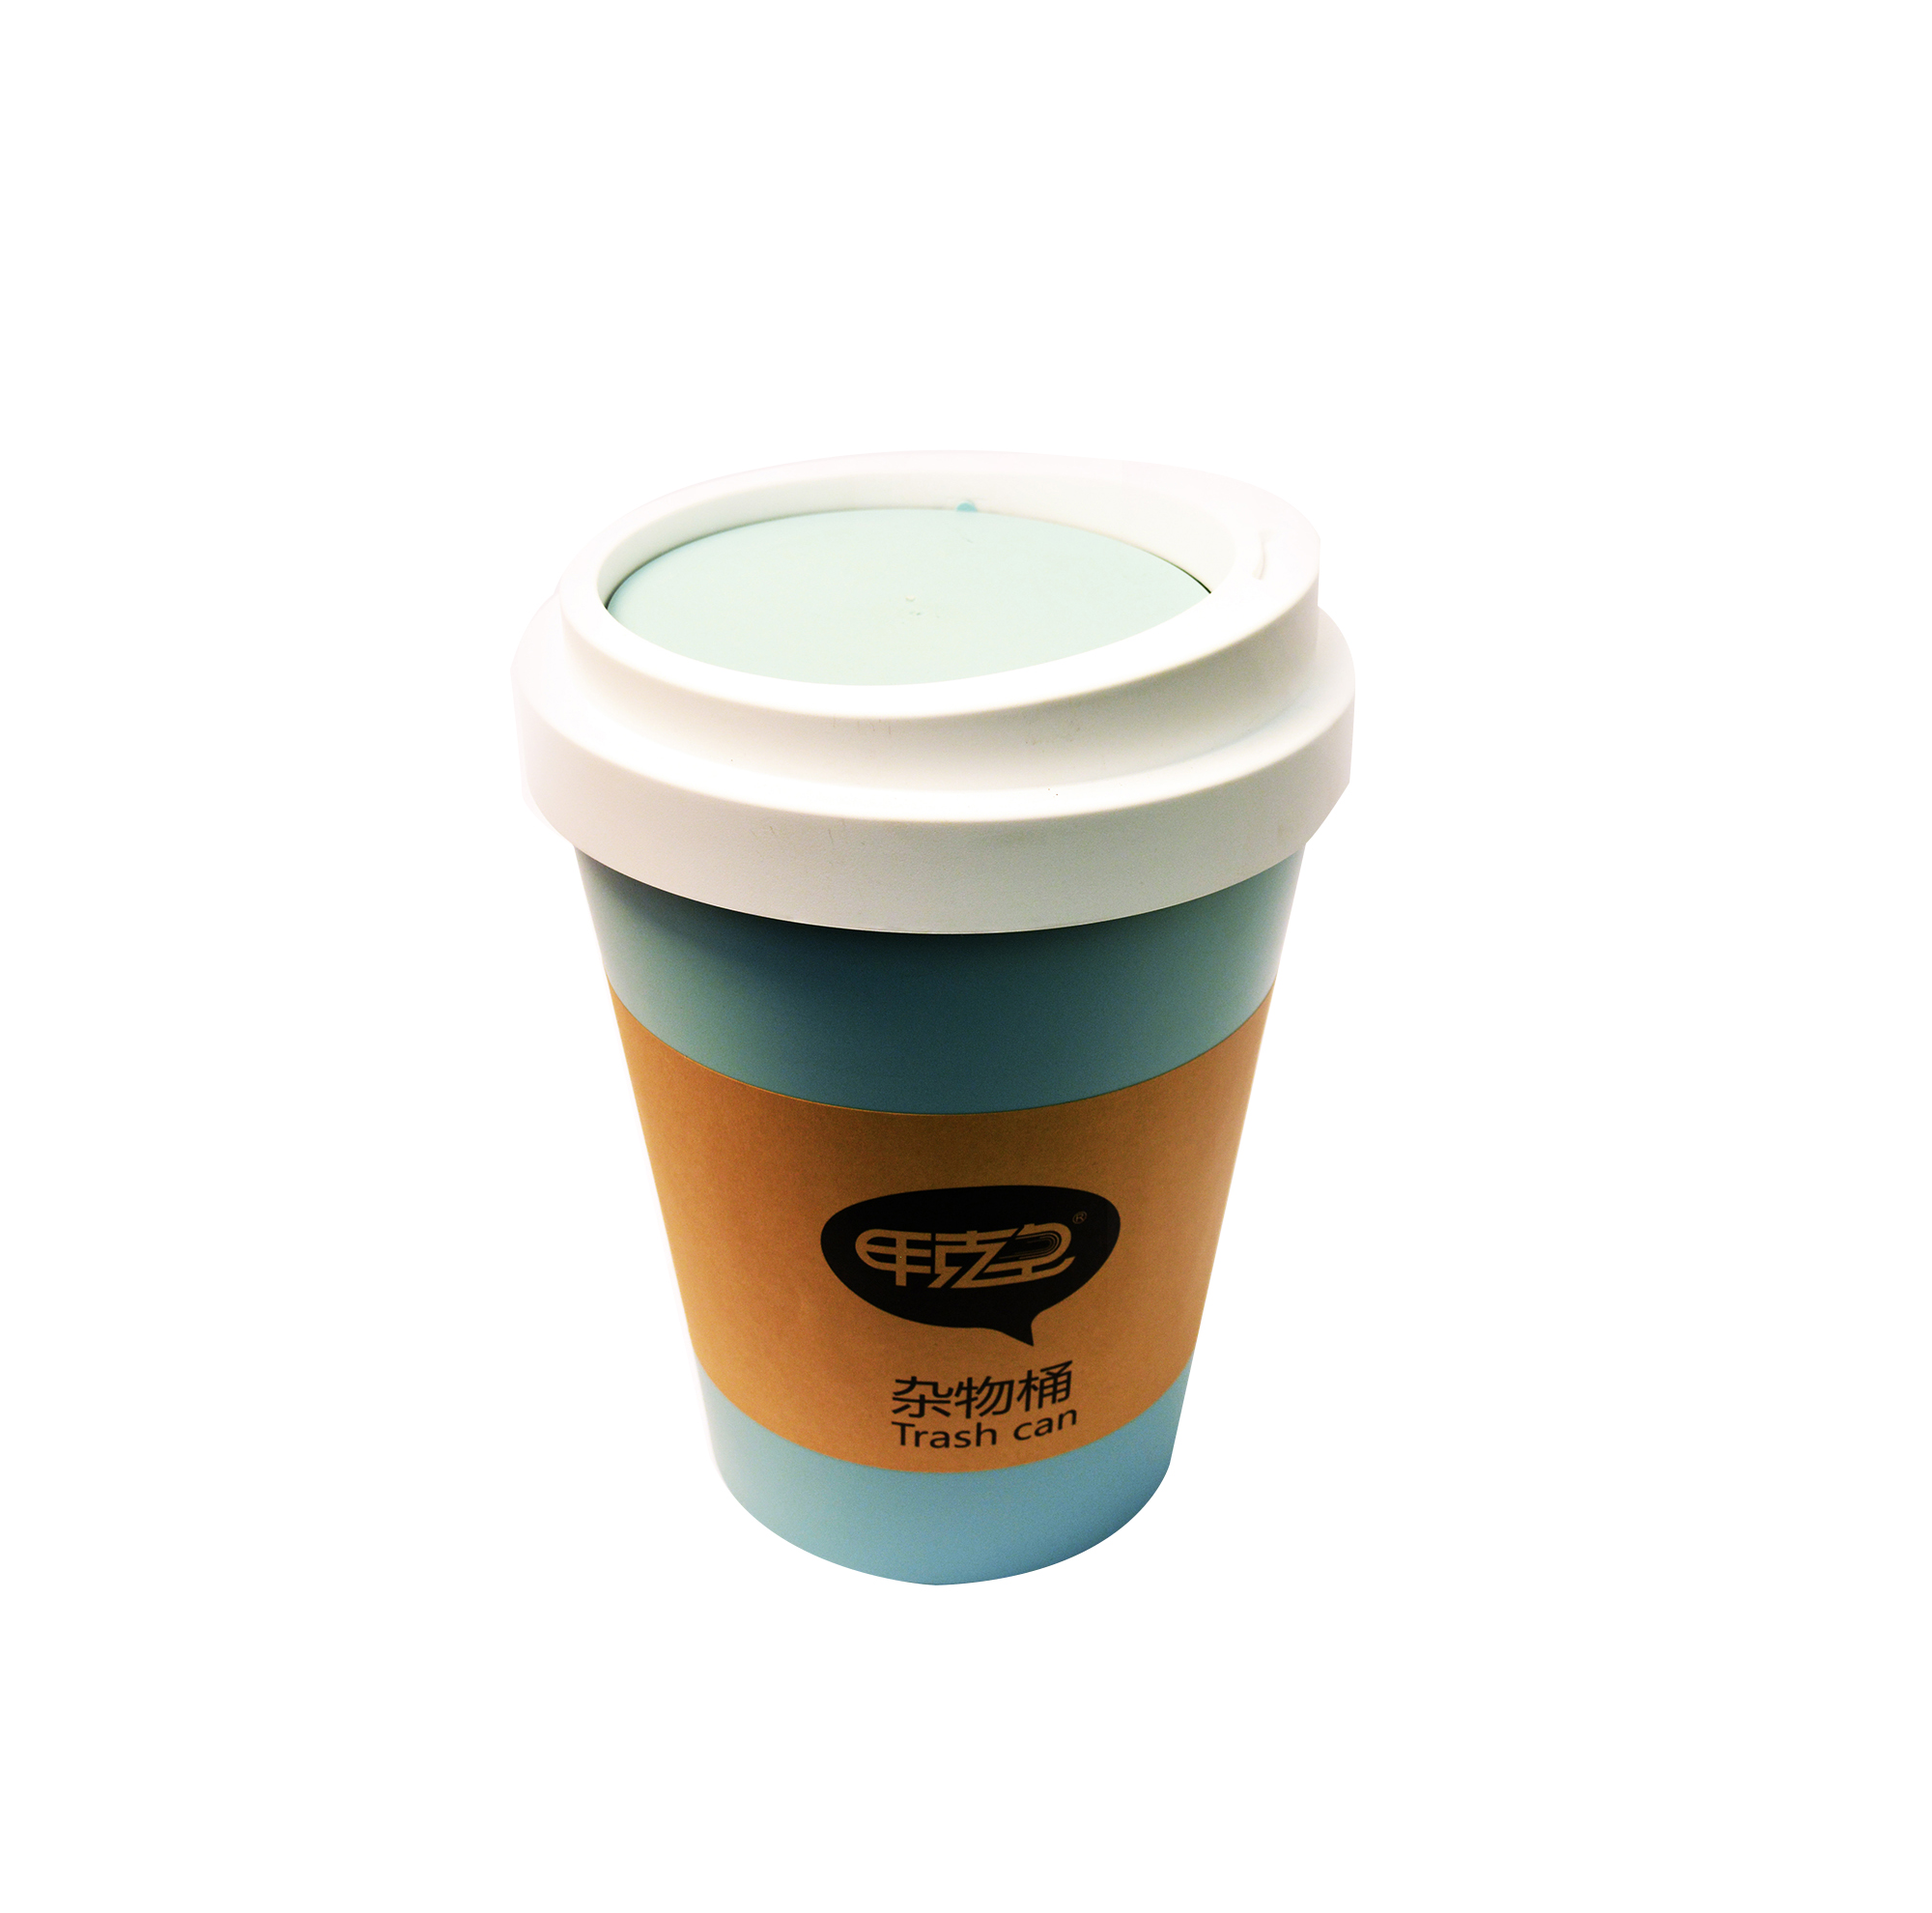cup: (466, 401, 1457, 1645)
